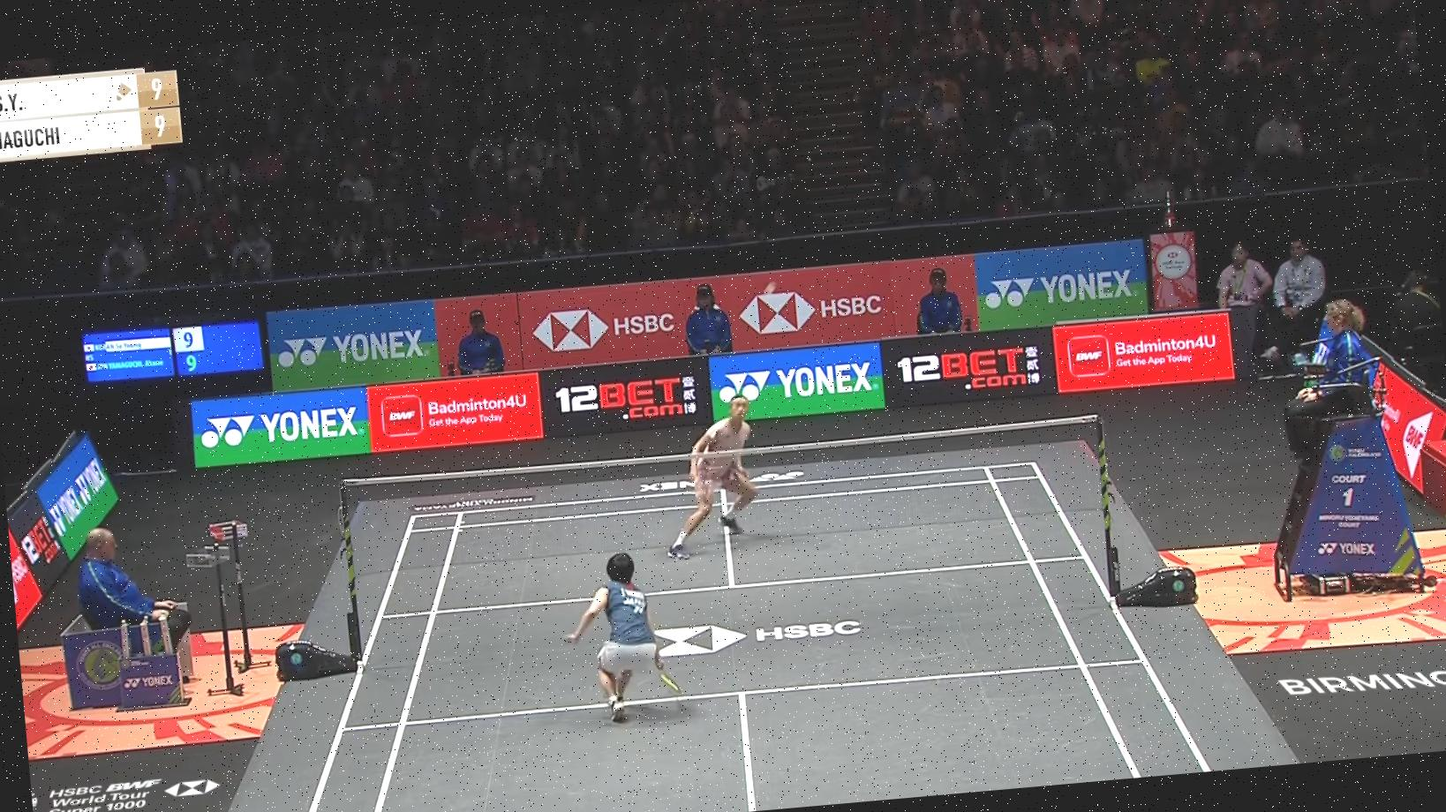Player 1: (647, 384, 773, 568)
Player 2: (542, 540, 688, 735)
shuttle: (759, 278, 781, 301)
